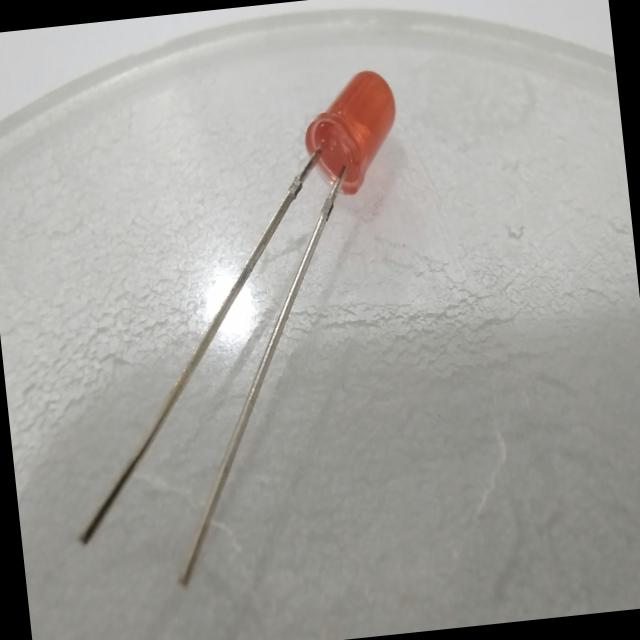red_led: (288, 59, 412, 210)
